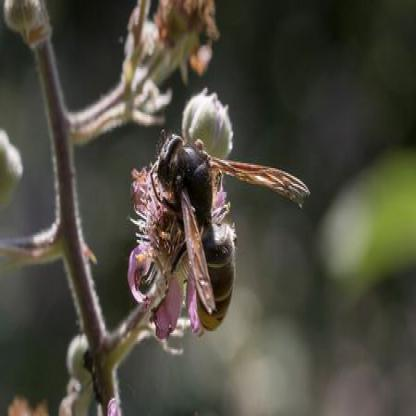Asian Hornet: (147, 127, 311, 337)
